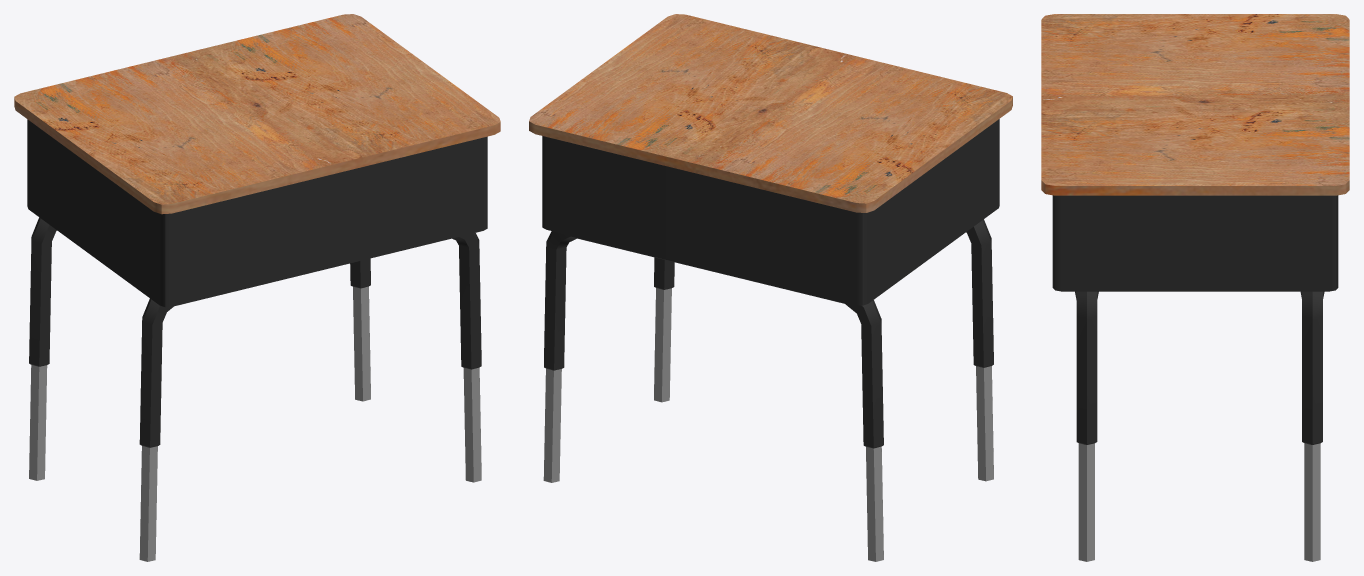
Rendered from DeskModel.fbx.
The picture shows the model from 3 angles, left to right: view 1: azimuth 30°, elevation 25°; view 2: azimuth 150°, elevation 25°; view 3: azimuth 270°, elevation 25°; orthographic projection. The views are drawn at different scales.
Visible parts, largest first — view 1: pCylinder3; view 2: pCylinder3; view 3: pCylinder3.
Part boxes in pixels (<box>): pCylinder3: <box>14,14,500,561</box>; pCylinder3: <box>529,14,1012,561</box>; pCylinder3: <box>1041,14,1349,561</box>.
Bounding box in the file's own units: 3.67 × 3.75 × 2.78.
